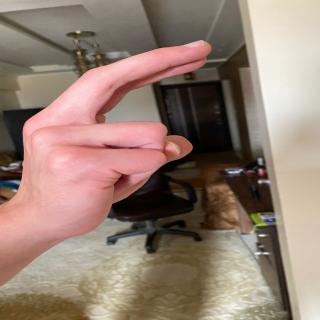ZAY: (9, 43, 247, 234)
